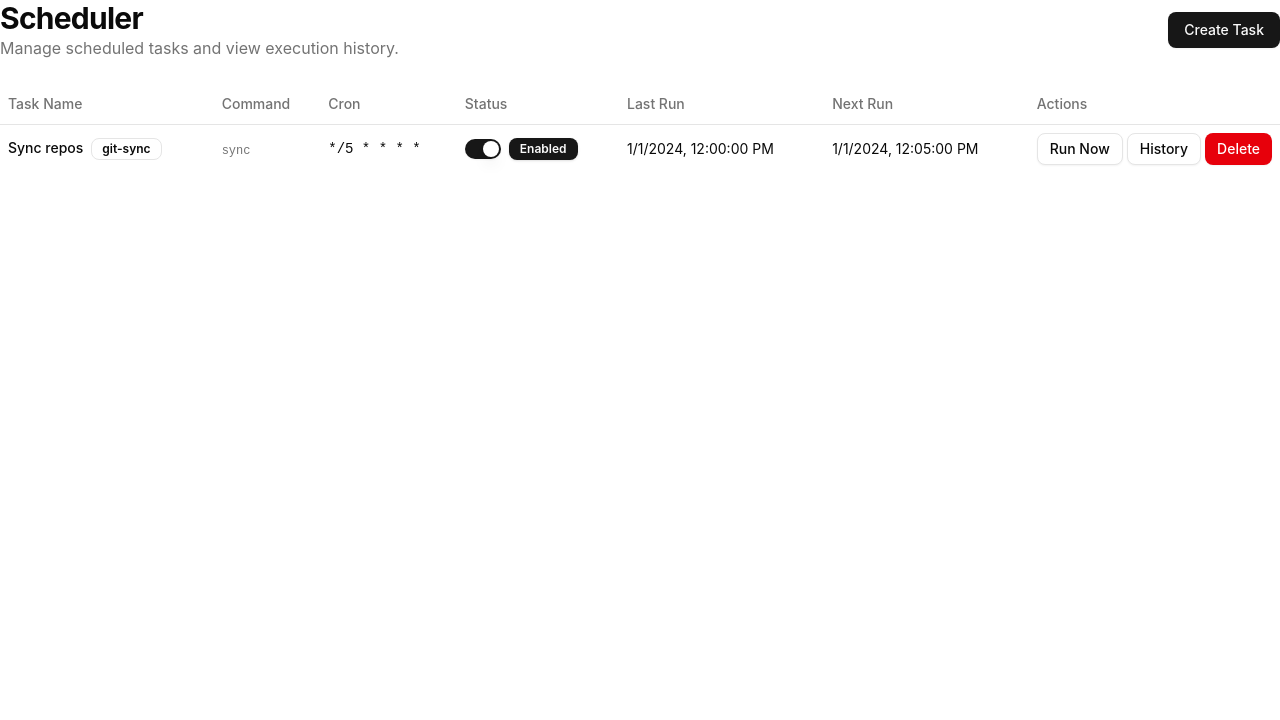
ScheduledTasksPage › opens Create Task dialog when button is clicked
Click the button "Create Task" at (1224, 30), box [1168,12,1279,48]
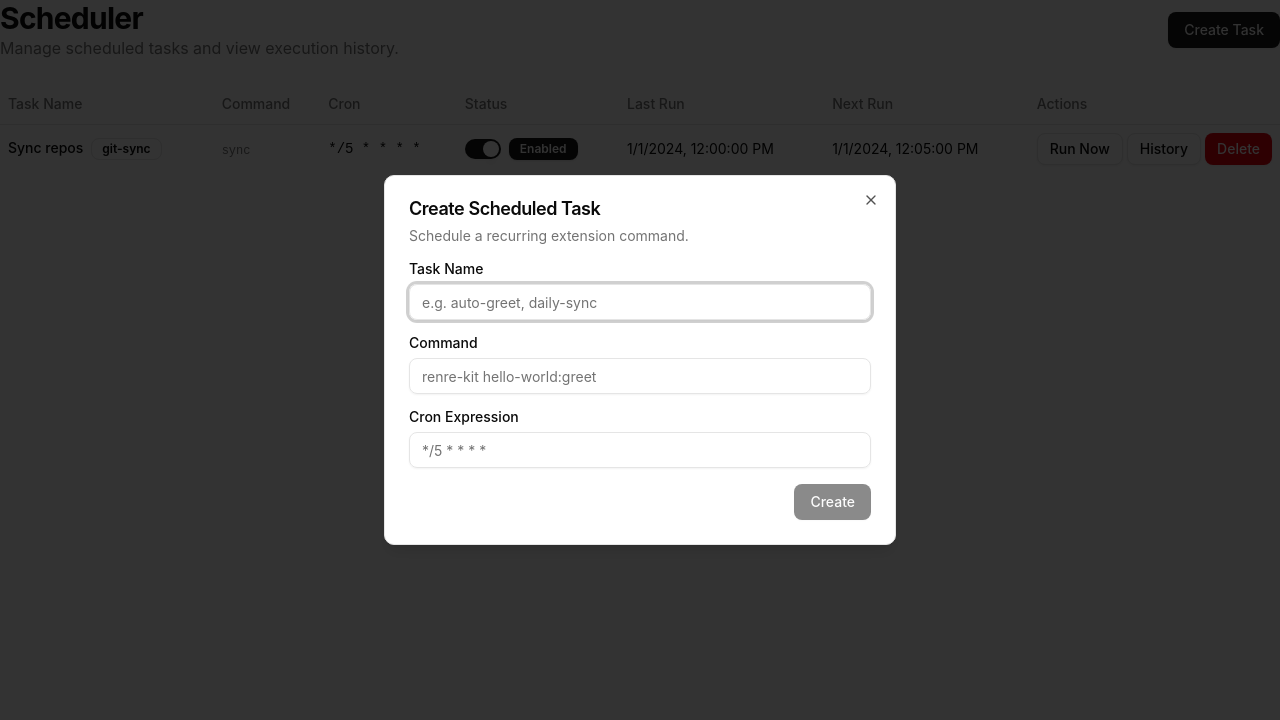
Now the heading "Create Scheduled Task" is shown, box [409,198,600,219]
Now the text "Schedule a recurring extension command." is shown, box [409,227,689,244]
